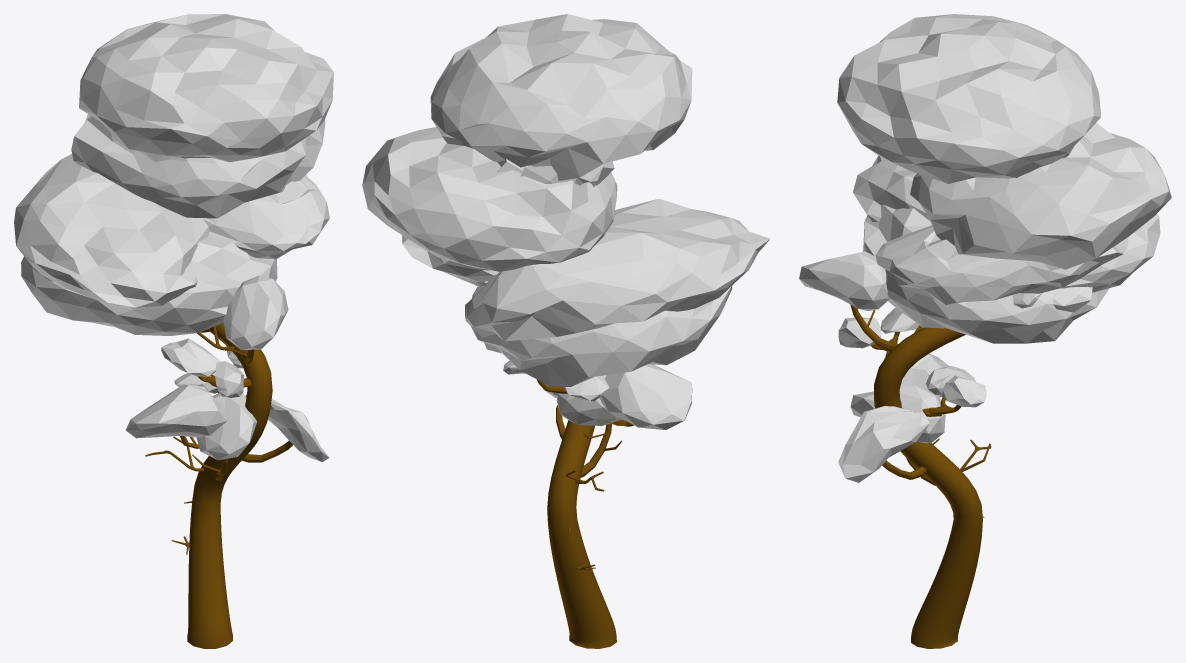
Rendered from tree 2.fbx.
The picture shows the model from 3 angles, left to right: view 1: azimuth 30°, elevation 25°; view 2: azimuth 150°, elevation 25°; view 3: azimuth 270°, elevation 25°; orthographic projection. The views are drawn at different scales.
Parts seen in each view (by area): view 1: Tree set 1.025, Tree set 1.083; view 2: Tree set 1.025, Tree set 1.083; view 3: Tree set 1.025, Tree set 1.083.
Part boxes in pixels (x1=…): Tree set 1.025: x1=14, y1=14, x2=333, y2=462; Tree set 1.083: x1=145, y1=323, x2=292, y2=648; Tree set 1.025: x1=362, y1=14, x2=770, y2=430; Tree set 1.083: x1=537, y1=379, x2=633, y2=648; Tree set 1.025: x1=799, y1=14, x2=1171, y2=482; Tree set 1.083: x1=850, y1=304, x2=991, y2=648.
Bounding box in the file's own units: 415 × 747 × 417.
